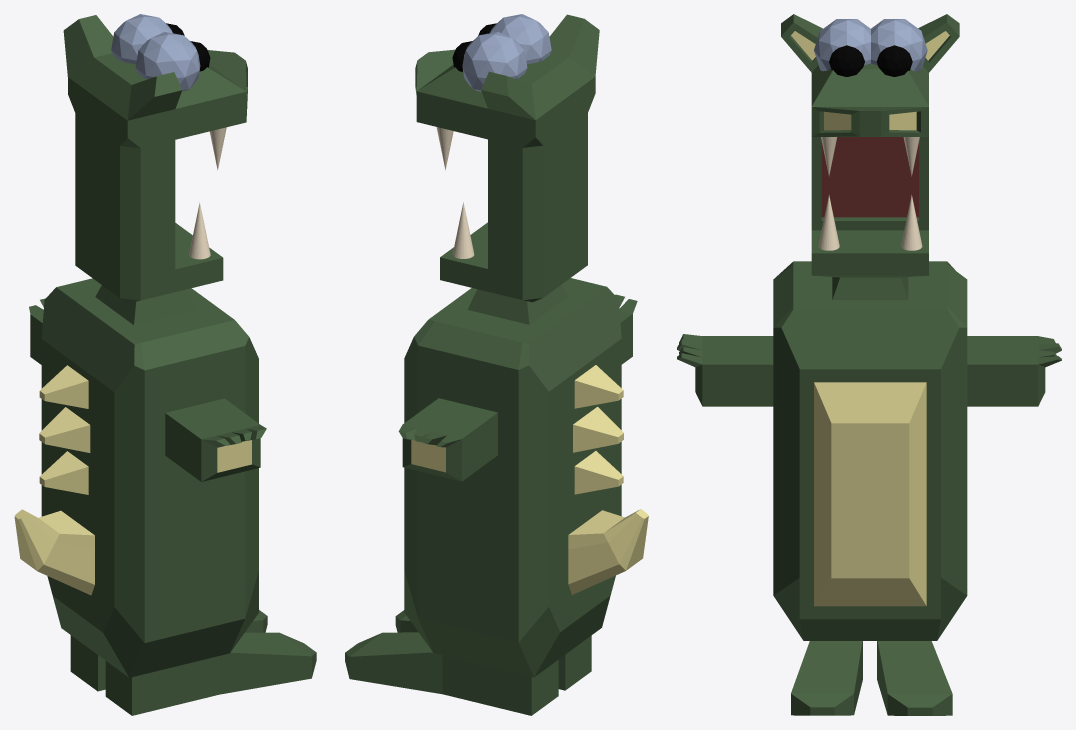
File: HippoCrocoSaurus.fbx
3 renders of one model, left to right at view 1: azimuth 30°, elevation 25°; view 2: azimuth 150°, elevation 25°; view 3: azimuth 270°, elevation 25°, orthographic.
Parts seen in each view (by area): view 1: Croc; view 2: Croc; view 3: Croc.
Boxes of the visible parts, bbox=[...] form: Croc: bbox=[14, 14, 316, 715]; Croc: bbox=[345, 14, 648, 715]; Croc: bbox=[677, 14, 1061, 715].
Size of the model in its own units: 537 by 1245 by 674.
